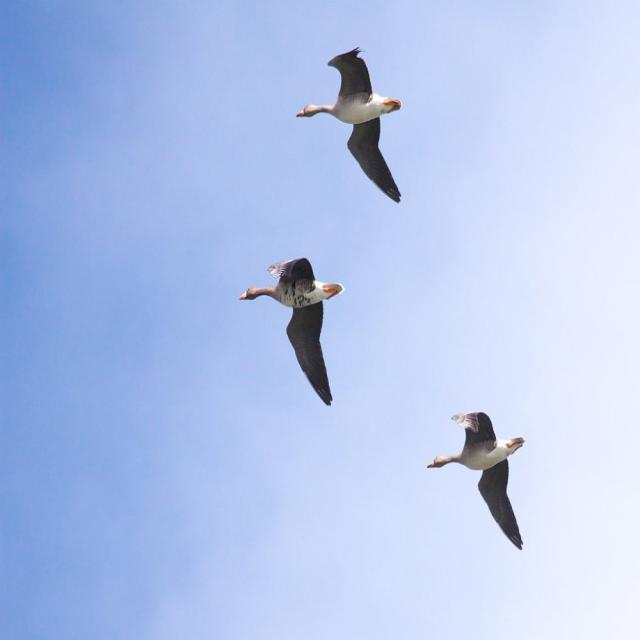bird: (291, 48, 405, 206), (235, 254, 350, 410), (422, 411, 528, 556)
